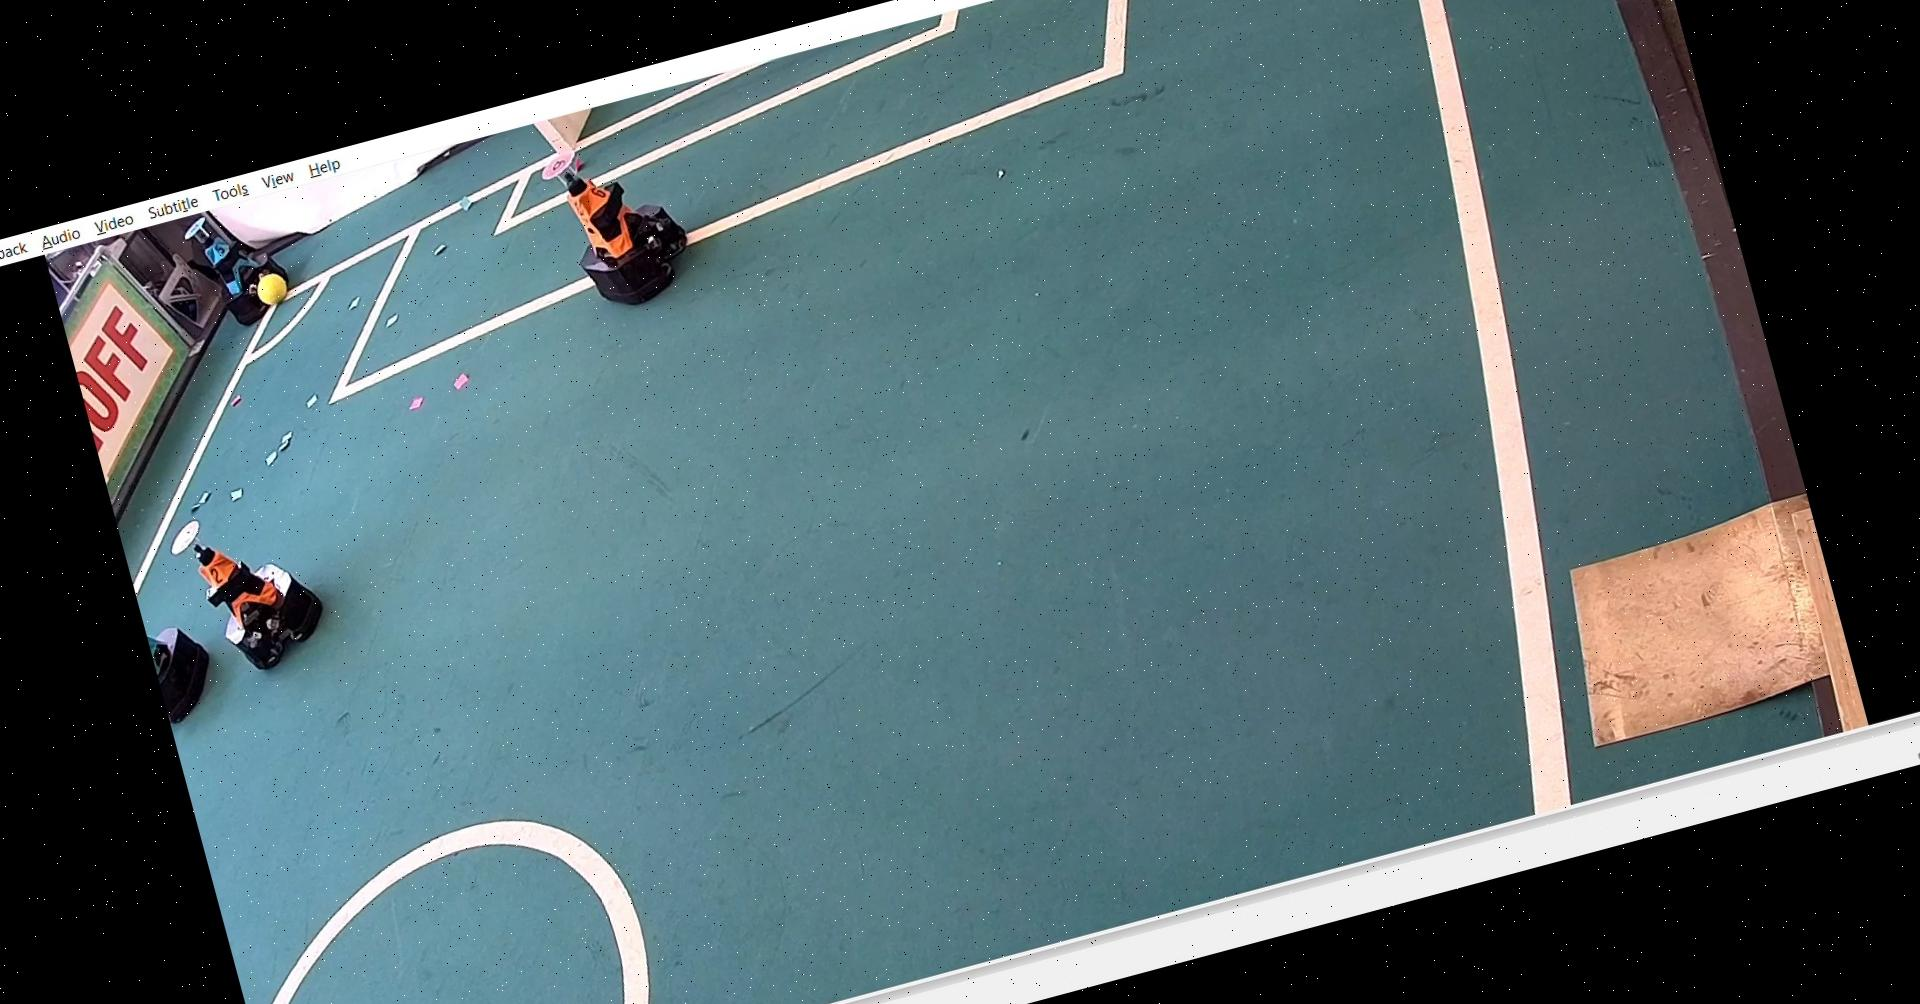Ball: (243, 255, 295, 311)
Team_Blue: (180, 206, 300, 341)
Team_Red: (540, 129, 701, 314), (170, 496, 325, 677)
